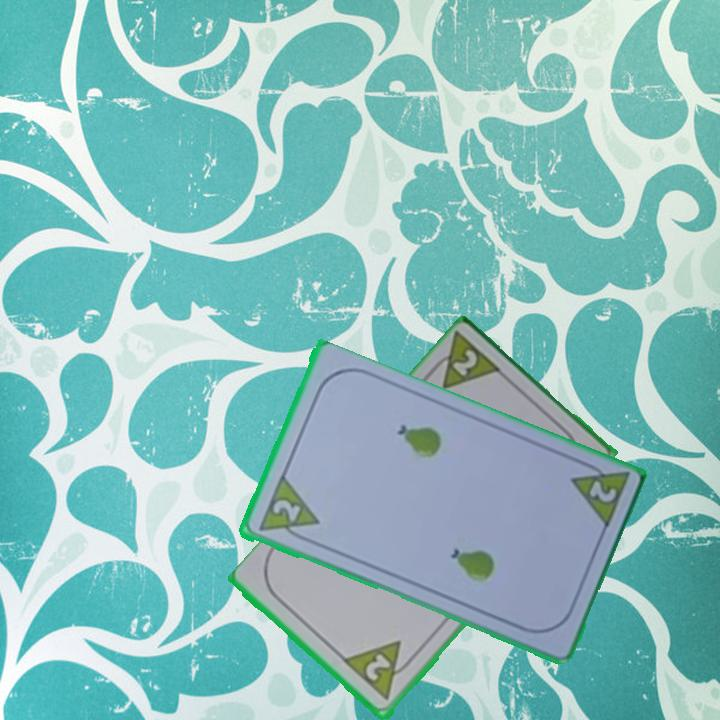2p: (340, 637, 420, 704), (422, 330, 507, 393), (565, 455, 631, 533), (254, 473, 321, 547)
